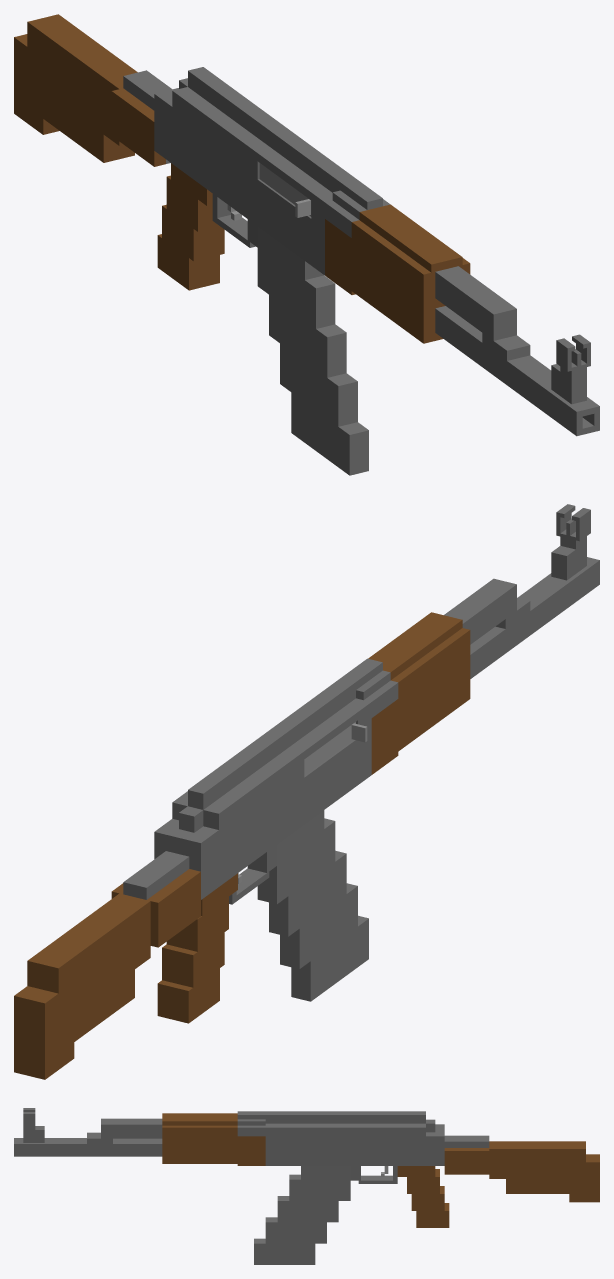
3 views of the same model, one above another, from view 1: azimuth 30°, elevation 25°; view 2: azimuth 150°, elevation 25°; view 3: azimuth 270°, elevation 25° (orthographic). The views are drawn at different scales.
Visible parts, largest first — view 1: ak-47_base, ak-47_clip, ak-47_ejection; view 2: ak-47_base, ak-47_clip, ak-47_ejection; view 3: ak-47_base, ak-47_clip.
Boxes of the visible parts, <box> form: ak-47_base: <box>14,14,599,436</box>; ak-47_clip: <box>257,227,368,475</box>; ak-47_ejection: <box>259,163,311,217</box>; ak-47_base: <box>14,504,599,1079</box>; ak-47_clip: <box>257,810,368,1001</box>; ak-47_ejection: <box>304,722,367,775</box>; ak-47_base: <box>14,1108,599,1227</box>; ak-47_clip: <box>254,1166,350,1264</box>.
Size of the model in its own units: 150 by 710 by 2490.
